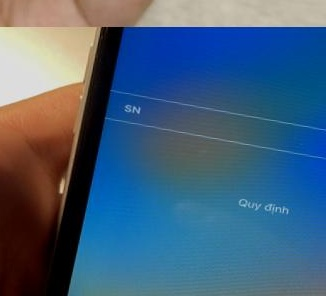physical_damage: (155, 161, 184, 217)
